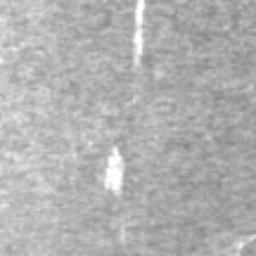White rust: (103, 145, 125, 197), (132, 0, 146, 64)
